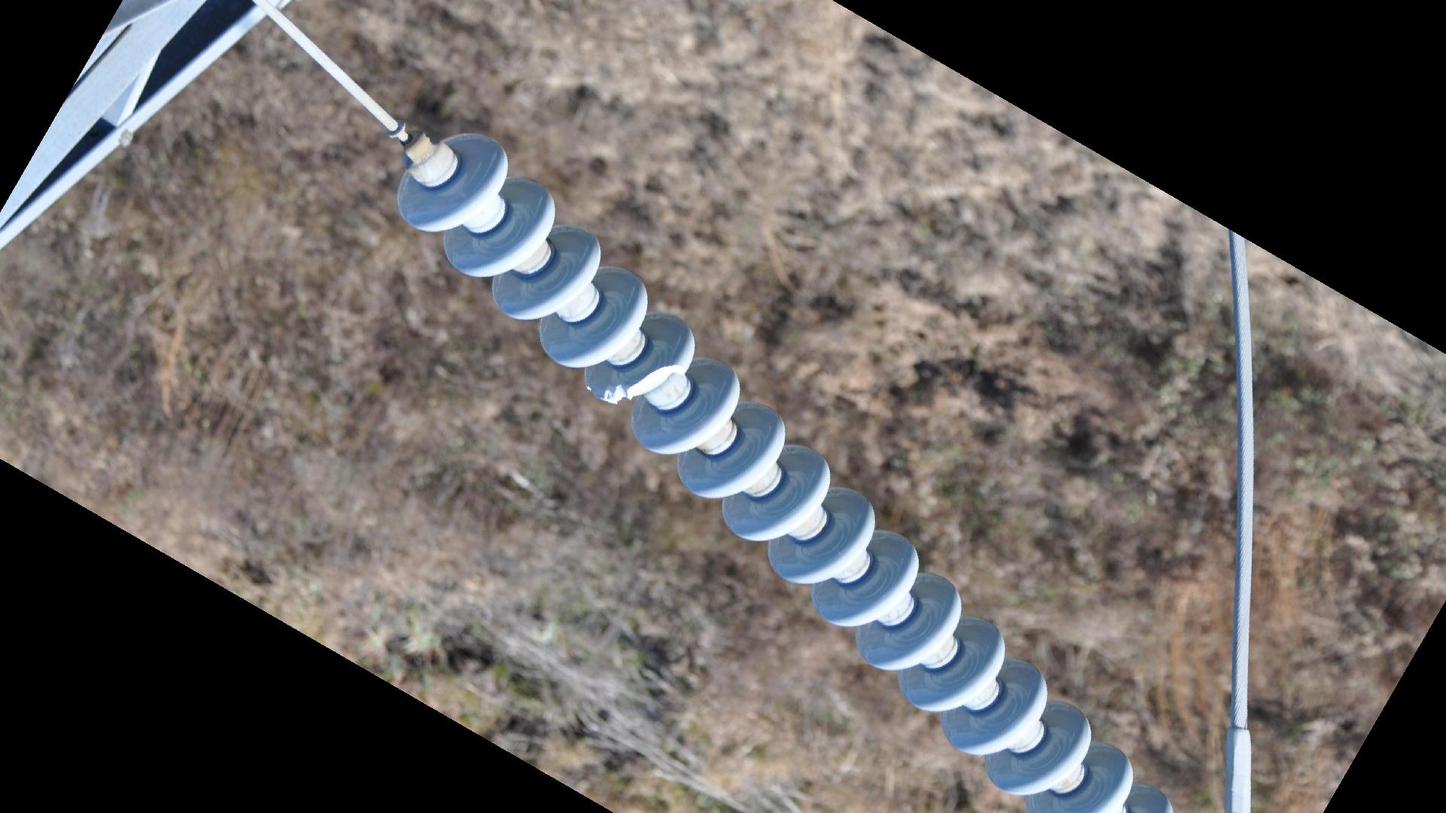insulator: (390, 125, 1183, 813)
insulator_breakage: (586, 358, 689, 410)
